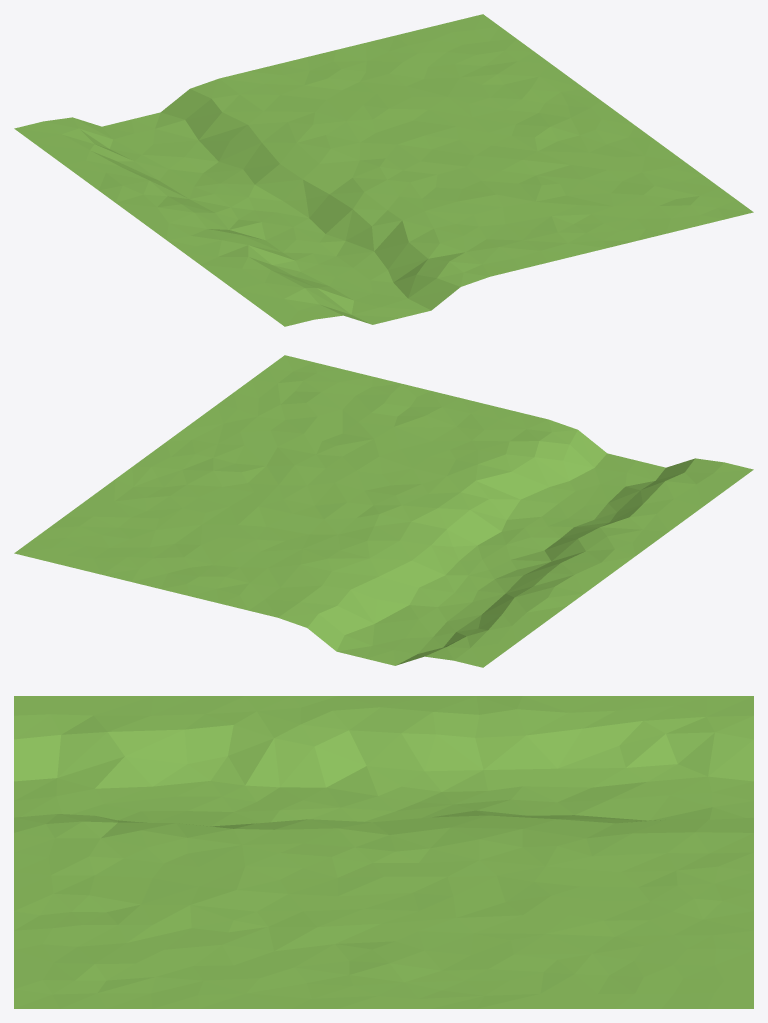
The model's file is MT_River_M_a_01_LOD.fbx.
The picture shows the model from 3 angles, top to bottom: view 1: azimuth 30°, elevation 25°; view 2: azimuth 150°, elevation 25°; view 3: azimuth 270°, elevation 25°; orthographic projection. The views are drawn at different scales.
Parts seen in each view (by area): view 1: MT_River_M_a_01_LOD0; view 2: MT_River_M_a_01_LOD0; view 3: MT_River_M_a_01_LOD0.
Boxes of the visible parts, left/top/right/bottom form: MT_River_M_a_01_LOD0: left=14, top=14, right=753, bottom=326; MT_River_M_a_01_LOD0: left=14, top=355, right=753, bottom=667; MT_River_M_a_01_LOD0: left=14, top=696, right=753, bottom=1008.
Size of what is drawn, in the model's own units: 5000 by 221 by 5000.
